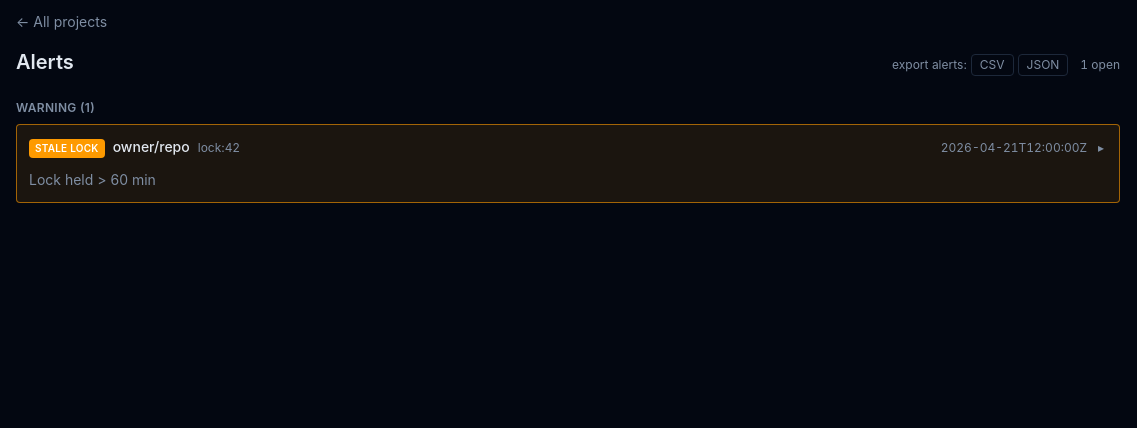
it: Alerts page › shows success banner after Release Lock mutation resolves
Click the button with aria-label "toggle stale_lock".
click(67, 148)  # box 29,138 -> 1104,158
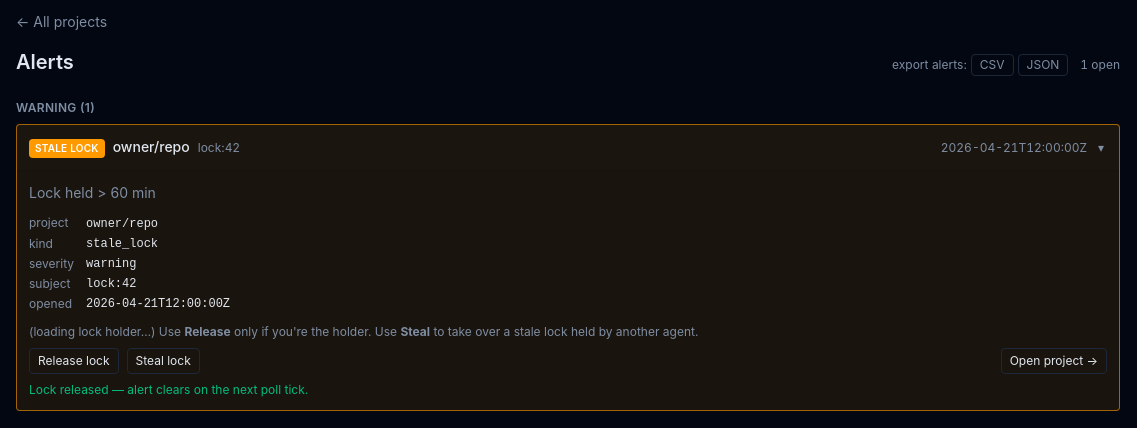
Expected: the message shows "Lock released", 29,382 -> 308,397
